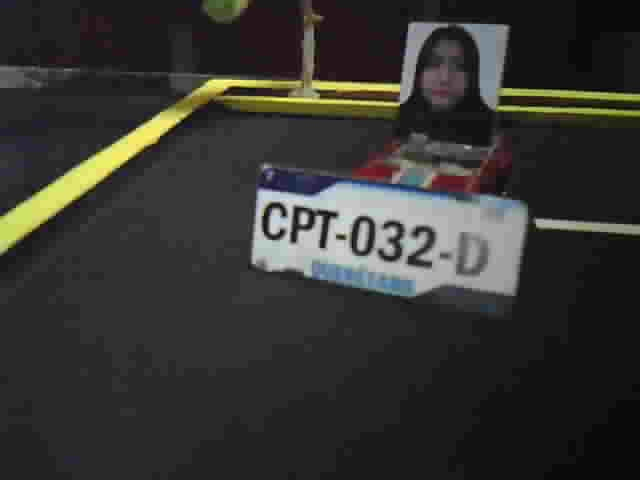PLACA: (248, 160, 531, 323)
ROSTRO: (398, 28, 494, 145)
